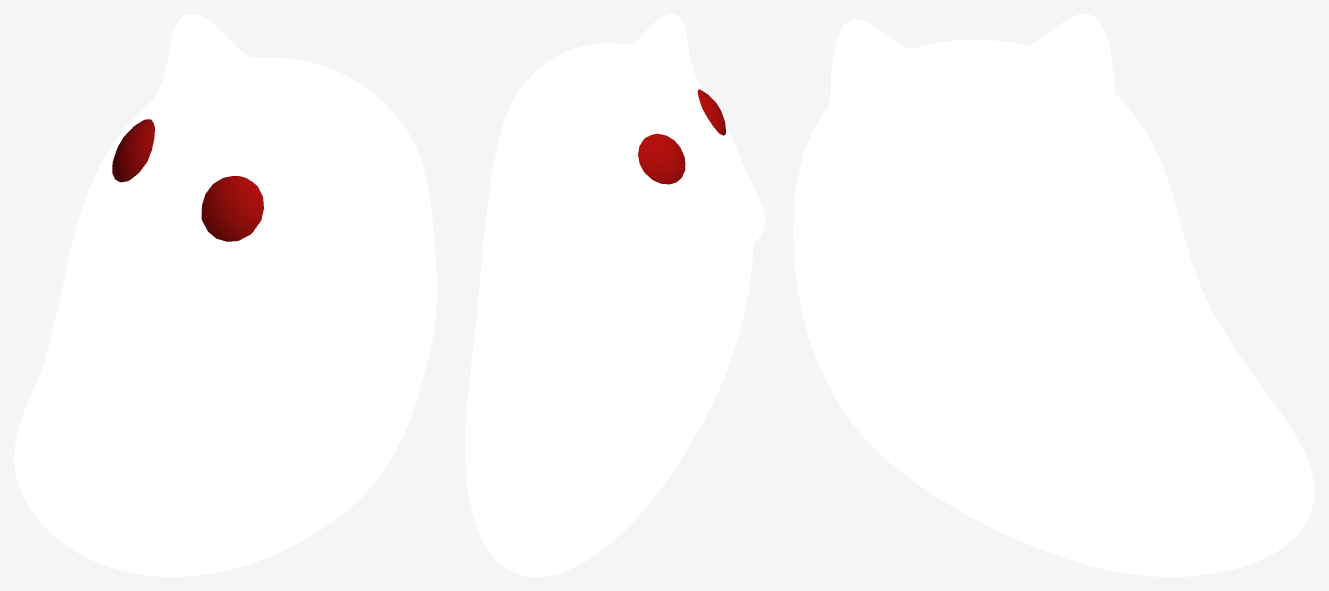
The model's file is Gost_RedEyes.glb.
3 renders of one model, left to right at view 1: azimuth 30°, elevation 25°; view 2: azimuth 150°, elevation 25°; view 3: azimuth 270°, elevation 25°, orthographic. The views are drawn at different scales.
Parts seen in each view (by area): view 1: Quad Sphere, Sphère.001, Sphère; view 2: Quad Sphere, Sphère, Sphère.001; view 3: Quad Sphere.
Boxes of the visible parts, x1,y1,x2,y2 form: Quad Sphere: (14, 14, 436, 576); Sphère.001: (201, 176, 263, 241); Sphère: (112, 119, 154, 182); Quad Sphere: (465, 14, 764, 576); Sphère: (638, 133, 685, 184); Sphère.001: (697, 89, 725, 135); Quad Sphere: (793, 14, 1314, 576).
Bounding box in the file's own units: 1.95 × 3.46 × 2.93.
